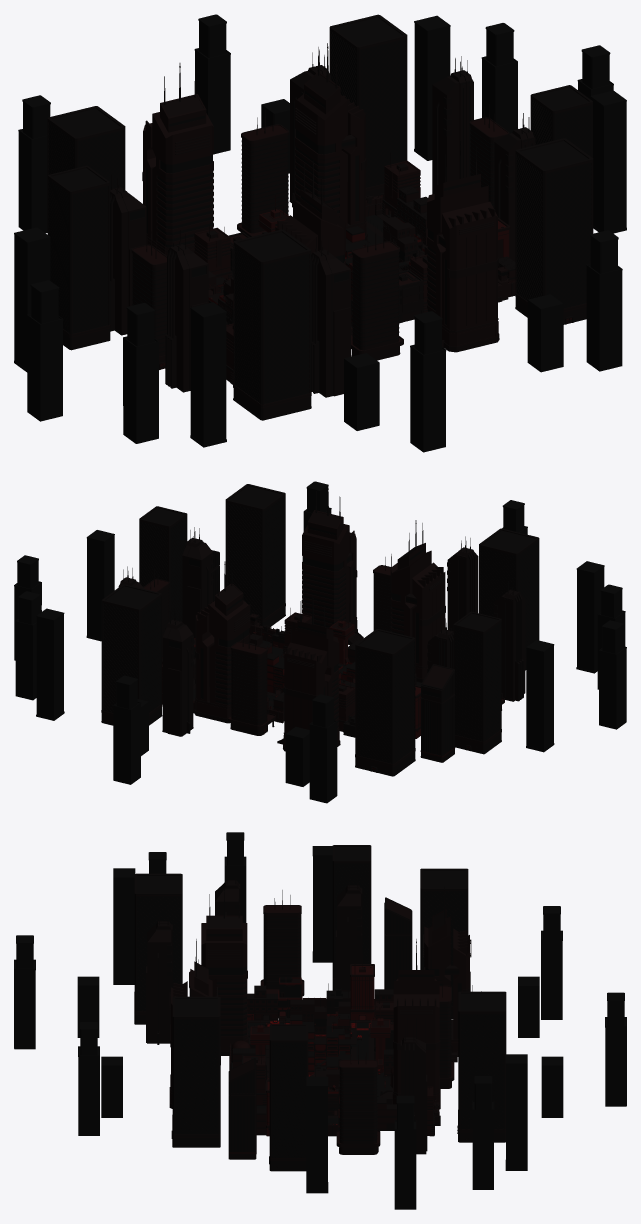
File: neon.glb
3 renders of one model, top to bottom at view 1: azimuth 30°, elevation 25°; view 2: azimuth 150°, elevation 25°; view 3: azimuth 270°, elevation 25°, orthographic. The views are drawn at different scales.
Parts seen in each view (by area): view 1: SM_BigBuilding_03_1788-col, SM_BigBuilding_03_816-col, SM_BigBuilding_01_123-col, SM_BigBuilding_03_1168-col, SM_BigBuilding_01_1112-col, SM_BigBuilding_03_799-col, SM_BigBuilding_01_878-col, SM_BigBuilding_06_1516-col, SM_BigBuilding_07_998-col, SM_BG_Building_03_1319, SM_BigBuilding_03_1805-col, SM_BG_Building_02_457 (+26 smaller); view 2: SM_BigBuilding_03_1805-col, SM_BigBuilding_03_816-col, SM_BigBuilding_03_799-col, SM_BigBuilding_03_1168-col, SM_BigBuilding_01_123-col, SM_BigBuilding_01_878-col, SM_BigBuilding_01_1867-col, SM_BigBuilding_01_1112-col, SM_BigBuilding_03_1788-col, SM_BigBuilding_03_179-col, SM_BigBuilding_07_9-col, SM_BigBuilding_06_527-col (+23 smaller); view 3: SM_BigBuilding_03_816-col, SM_BigBuilding_03_799-col, SM_BigBuilding_03_179-col, SM_BigBuilding_01_1867-col, SM_BigBuilding_01_878-col, SM_BigBuilding_03_1788-col, SM_BigBuilding_06_128-col, SM_BigBuilding_01_1112-col, SM_BigBuilding_03_1805-col, SM_BigBuilding_06_1117-col, SM_BigBuilding_07_998-col, SM_BigBuilding_03_1168-col (+26 smaller).
Part boxes in pixels (x1,y1,x2,y2): SM_BigBuilding_03_1788-col: (233, 229, 311, 420); SM_BigBuilding_03_816-col: (515, 138, 593, 324); SM_BigBuilding_01_123-col: (427, 141, 499, 352); SM_BigBuilding_03_1168-col: (48, 165, 110, 350); SM_BigBuilding_01_1112-col: (142, 63, 213, 255); SM_BigBuilding_03_799-col: (329, 14, 407, 199); SM_BigBuilding_01_878-col: (295, 43, 367, 240); SM_BigBuilding_06_1516-col: (351, 226, 403, 360); SM_BigBuilding_07_998-col: (311, 235, 350, 397); SM_BG_Building_03_1319: (190, 302, 226, 447); SM_BigBuilding_03_1805-col: (47, 106, 125, 234); SM_BG_Building_02_457: (586, 230, 622, 371); SM_BigBuilding_03_1805-col: (355, 629, 415, 776); SM_BigBuilding_03_816-col: (225, 484, 285, 626); SM_BigBuilding_03_799-col: (101, 584, 162, 725); SM_BigBuilding_03_1168-col: (453, 611, 501, 754); SM_BigBuilding_01_123-col: (302, 486, 363, 644); SM_BigBuilding_01_878-col: (194, 561, 250, 723); SM_BigBuilding_01_1867-col: (390, 520, 445, 682); SM_BigBuilding_01_1112-col: (277, 595, 340, 751); SM_BigBuilding_03_1788-col: (479, 528, 539, 670); SM_BigBuilding_03_179-col: (139, 506, 187, 621); SM_BigBuilding_07_9-col: (162, 609, 193, 736); SM_BigBuilding_06_527-col: (227, 630, 275, 735); SM_BigBuilding_03_816-col: (171, 996, 220, 1147); SM_BigBuilding_03_799-col: (457, 991, 506, 1142); SM_BigBuilding_03_179-col: (269, 1024, 308, 1171); SM_BigBuilding_01_1867-col: (201, 886, 255, 1055); SM_BigBuilding_01_878-col: (380, 939, 440, 1110); SM_BigBuilding_03_1788-col: (134, 873, 182, 1024); SM_BigBuilding_06_128-col: (336, 1044, 380, 1154); SM_BigBuilding_01_1112-col: (423, 886, 471, 1062); SM_BigBuilding_03_1805-col: (420, 868, 468, 1019); SM_BigBuilding_06_1117-col: (260, 890, 304, 996); SM_BigBuilding_07_998-col: (146, 910, 172, 1044); SM_BigBuilding_03_1168-col: (332, 845, 371, 990).
Size of the model in its own units: 269 by 76.15 by 255.
Materials: 1 (1 with a texture image).
